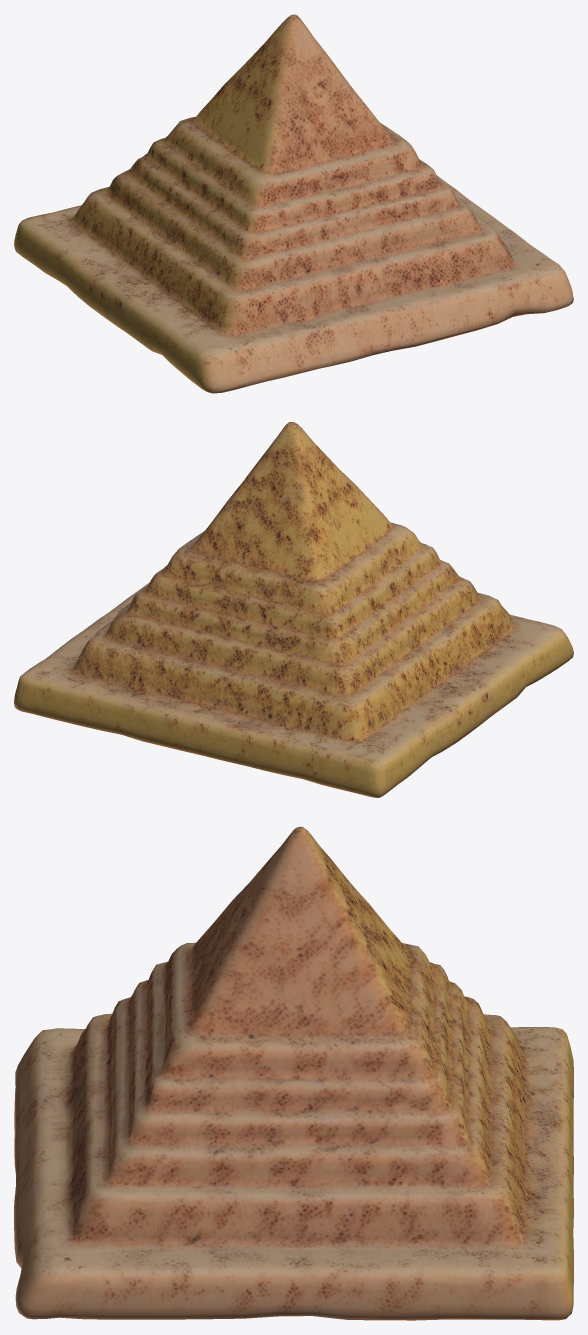
The picture shows the model from 3 angles, top to bottom: view 1: azimuth 30°, elevation 25°; view 2: azimuth 150°, elevation 25°; view 3: azimuth 270°, elevation 25°; orthographic projection. The views are drawn at different scales.
Parts seen in each view (by area): view 1: pyramid; view 2: pyramid; view 3: pyramid.
Boxes of the visible parts, x1,y1,x2,y2 form: pyramid: (14,14,573,393); pyramid: (14,422,573,797); pyramid: (14,826,573,1320).
Bounding box in the file's own units: 455 × 309 × 424.
Materials: 1 (1 with a texture image).
